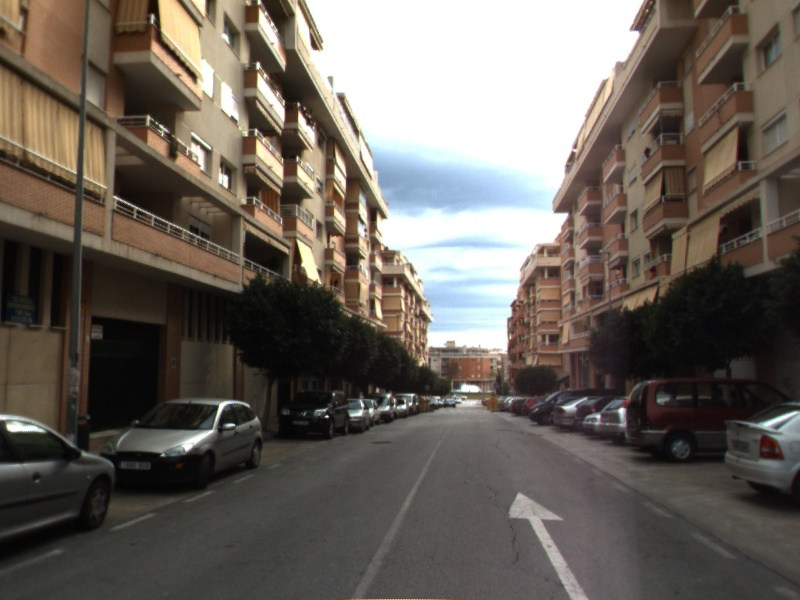STRAIGHT: (503, 489, 591, 600)
